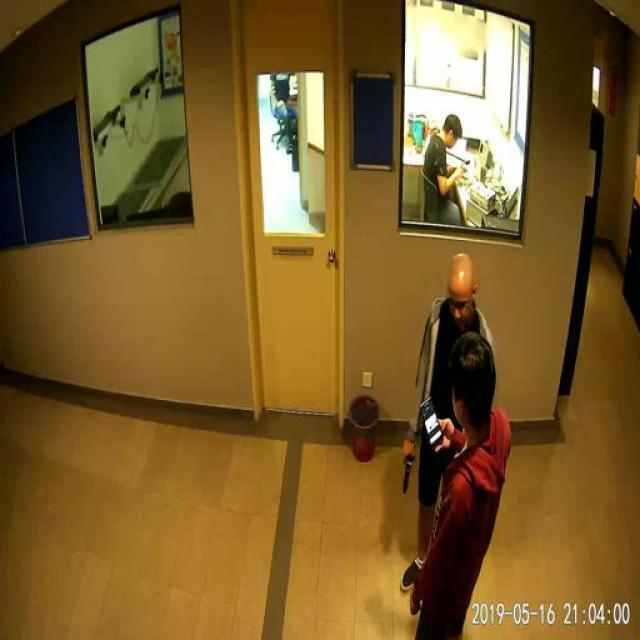weapon: (402, 452, 418, 496)
